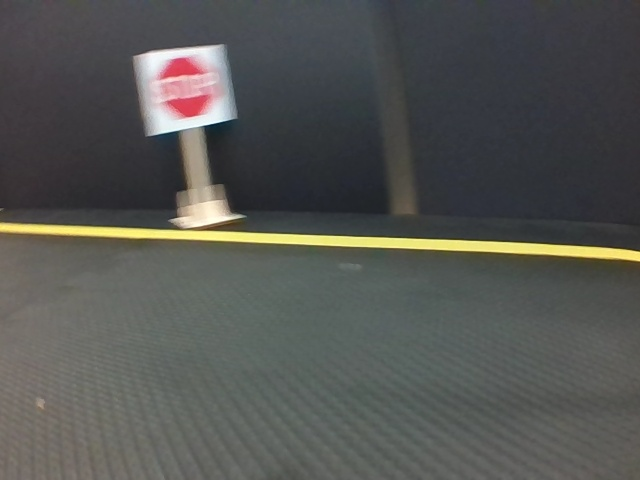stop: (139, 52, 229, 120)
